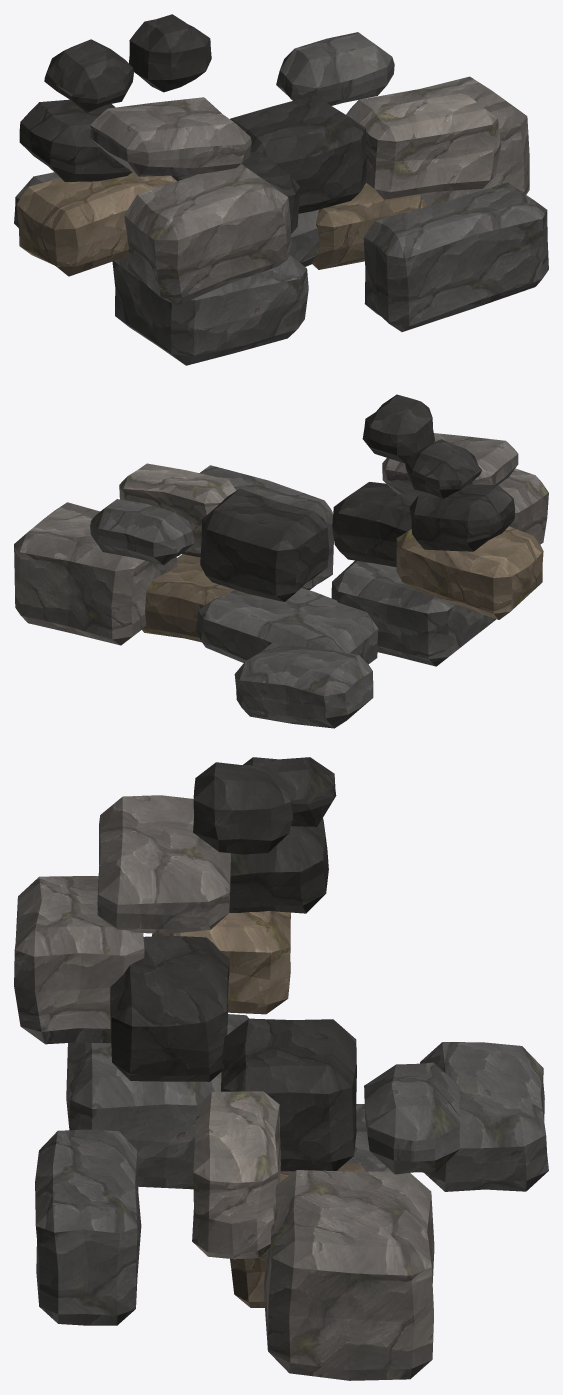
The model's file is ruin_rubble__cut_stone.glb.
The picture shows the model from 3 angles, top to bottom: view 1: azimuth 30°, elevation 25°; view 2: azimuth 150°, elevation 25°; view 3: azimuth 270°, elevation 25°; orthographic projection. The views are drawn at different scales.
Parts seen in each view (by area): view 1: model; view 2: model; view 3: model.
Part boxes in pixels (bbox=[...]): model: bbox=[14, 14, 548, 365]; model: bbox=[14, 394, 548, 728]; model: bbox=[14, 757, 548, 1380].
Bounding box in the file's own units: 1.17 × 0.6523 × 0.807.
Materials: 6 (6 with a texture image).
